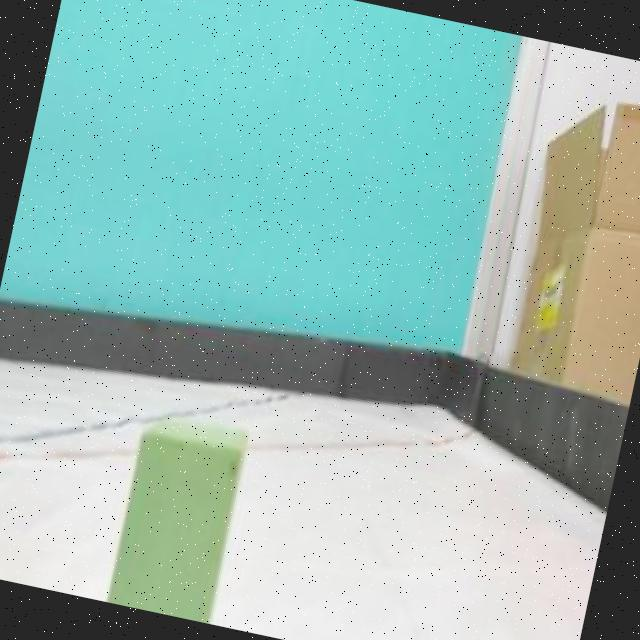greenbox: (104, 407, 254, 624)
